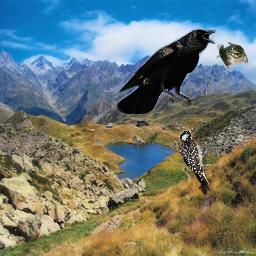Crow: (117, 28, 217, 114)
Swallow: (215, 42, 248, 72)
Woodpecker: (175, 125, 220, 195)
